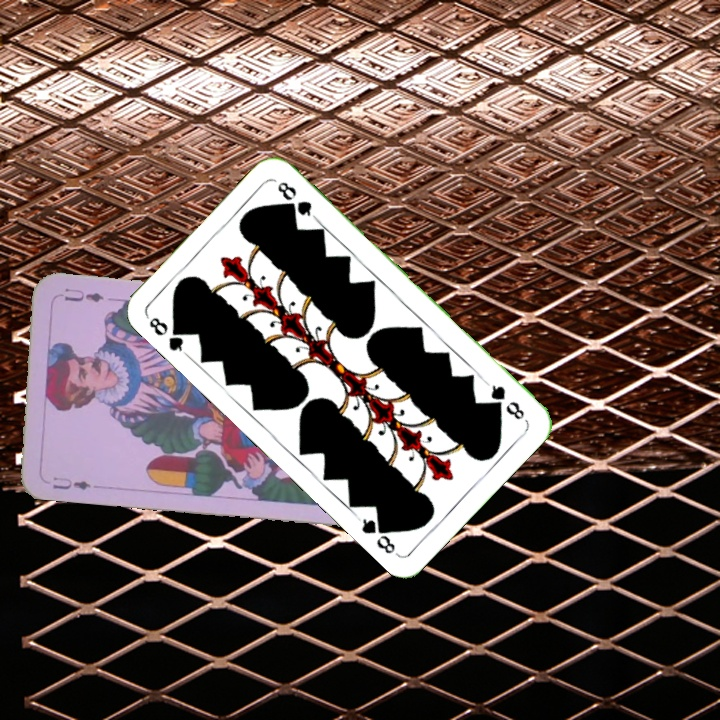EU: (49, 472, 93, 493)
G8: (143, 313, 190, 358), (486, 381, 527, 423)
